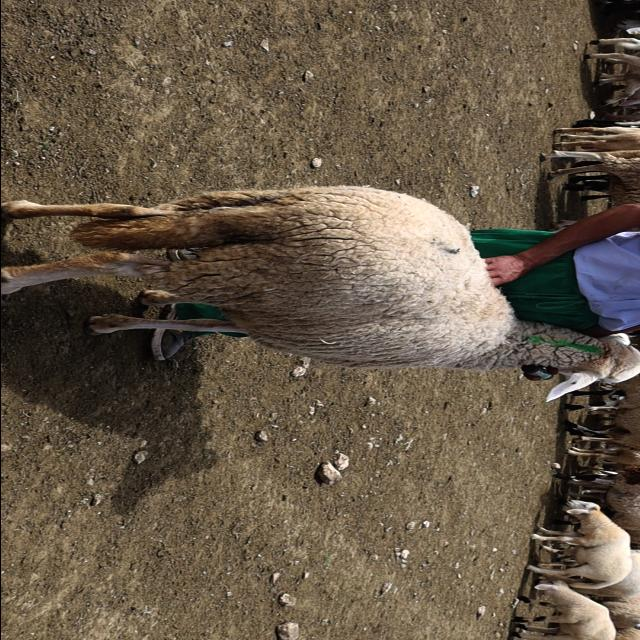Score_4: (1, 185, 640, 402)
